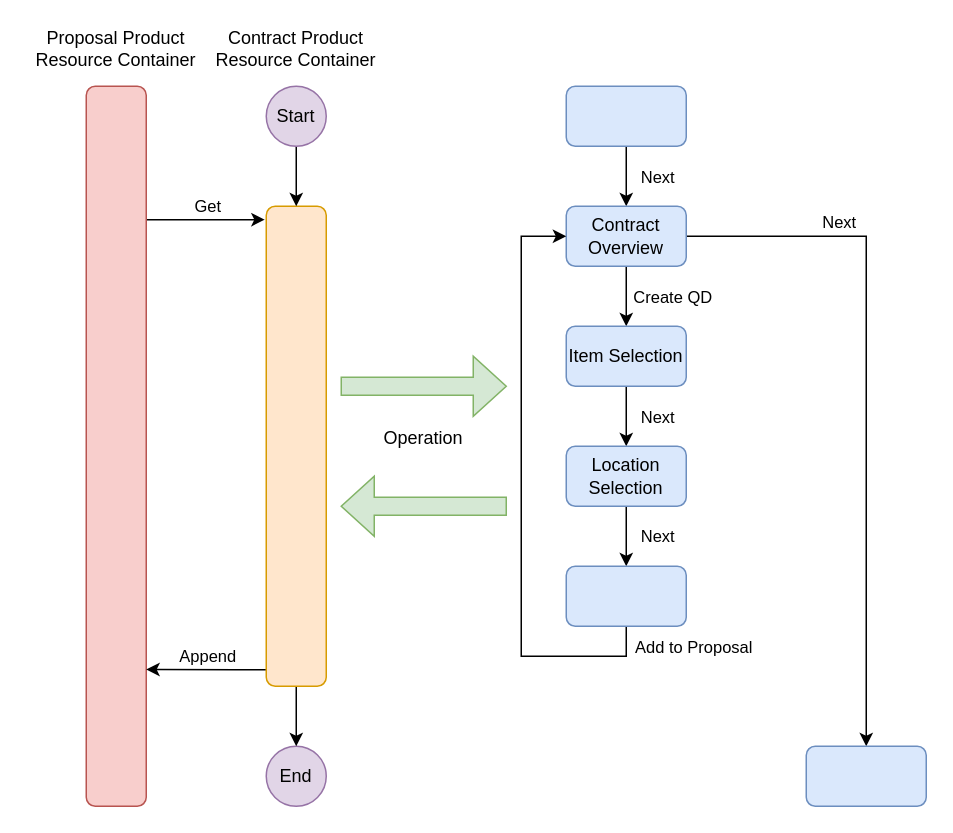
This 953x833 diagram has some shape labels left out. Each missing label, with the centre of its shape:
"Exception" goes at (625,595).
"Proposal Detail" goes at (625,115).
"Proposal Signoff" goes at (865,775).
